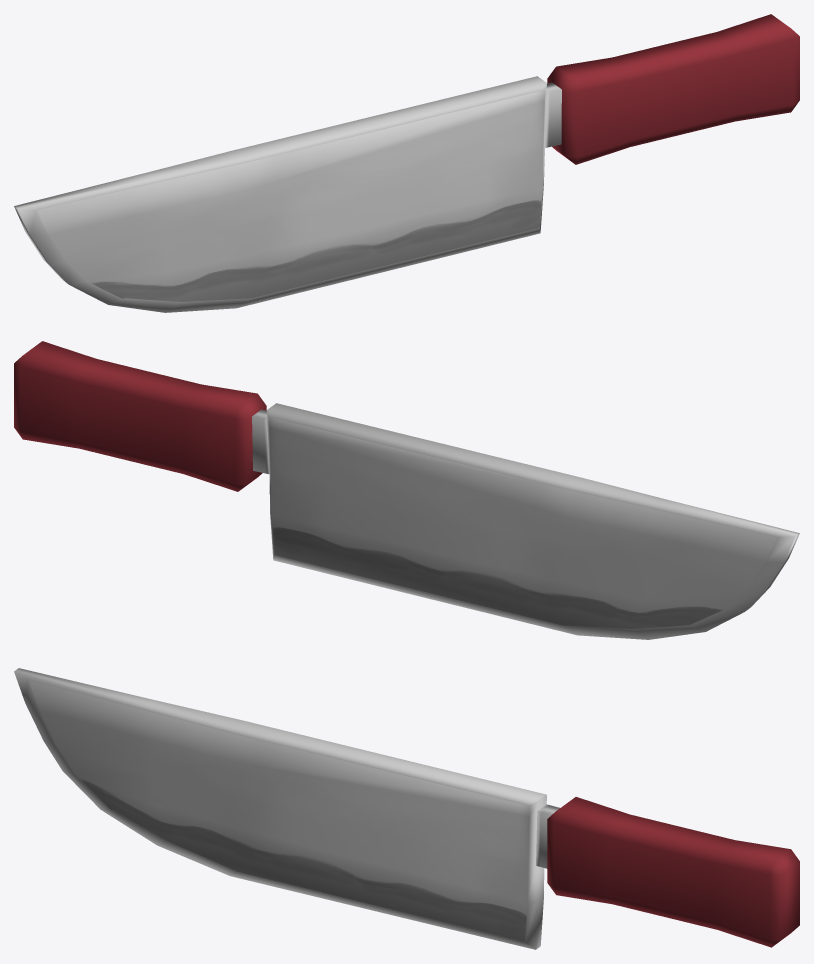
File: knife 1.fbx
3 views of the same model, one above another, from view 1: azimuth 30°, elevation 25°; view 2: azimuth 150°, elevation 25°; view 3: azimuth 330°, elevation 25° (orthographic).
Parts seen in each view (by area): view 1: knife; view 2: knife; view 3: knife.
Boxes of the visible parts, bbox=[...] form: knife: bbox=[14, 14, 799, 312]; knife: bbox=[14, 341, 799, 639]; knife: bbox=[14, 668, 799, 949].
Size of the model in its own units: 119 by 22.27 by 6.43.
